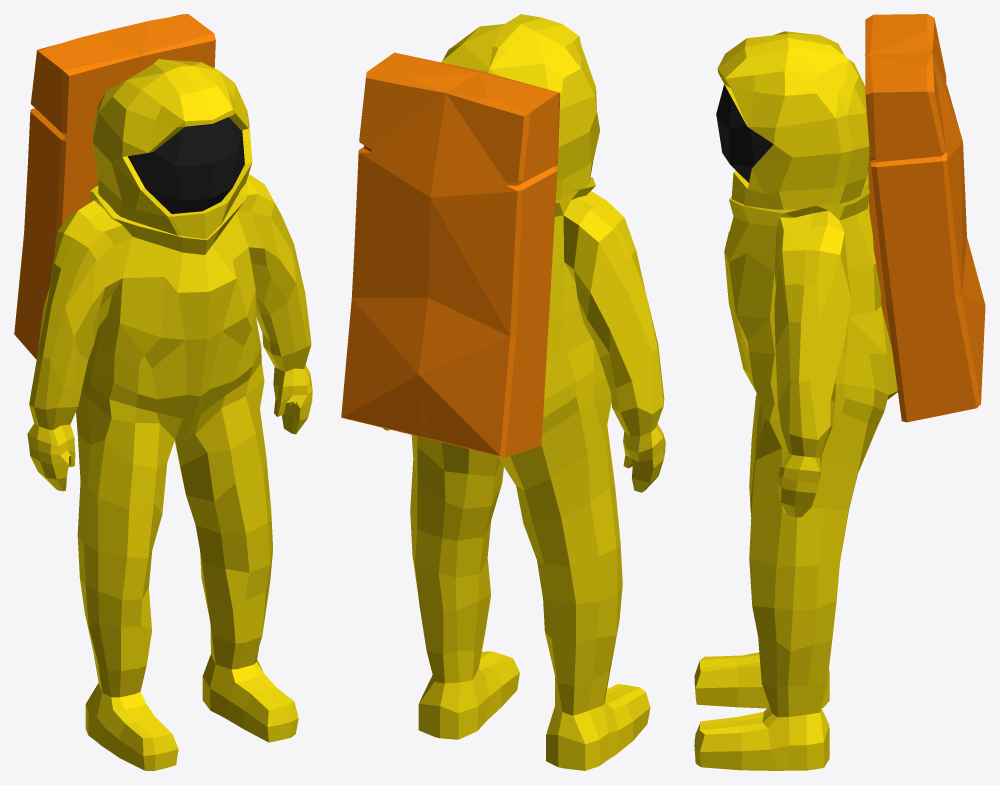
Rendered from Opponents.FBX.
The picture shows the model from 3 angles, left to right: view 1: azimuth 30°, elevation 25°; view 2: azimuth 150°, elevation 25°; view 3: azimuth 270°, elevation 25°; orthographic projection. The views are drawn at different scales.
Parts seen in each view (by area): view 1: Opponent; view 2: Opponent; view 3: Opponent.
Part boxes in pixels (x1,y1,x2,y2): Opponent: (14,14,312,770); Opponent: (341,14,665,770); Opponent: (694,14,985,770).
Size of the model in its own units: 69.01 by 59.58 by 156.
